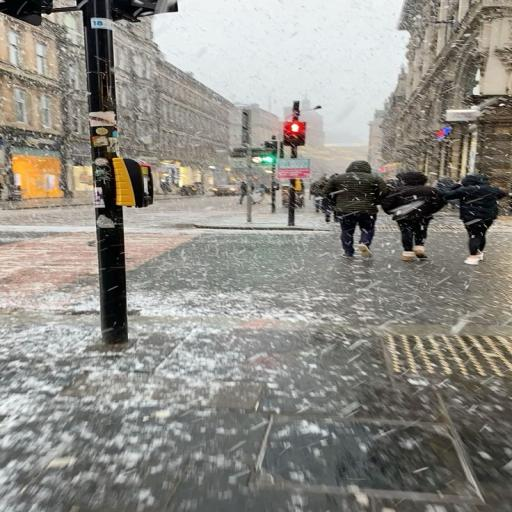closet: (0, 225, 212, 332)
hole: (308, 148, 512, 276)
phone: (0, 0, 184, 343)
table: (258, 93, 330, 235)
